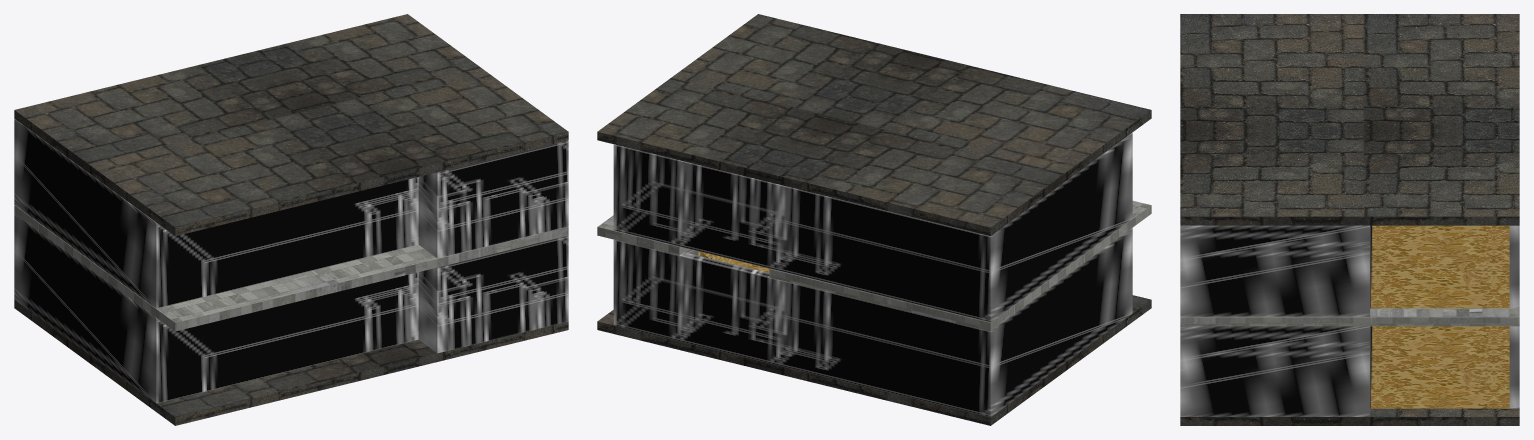
The model's file is LevelRun1.fbx.
The picture shows the model from 3 angles, left to right: view 1: azimuth 30°, elevation 25°; view 2: azimuth 150°, elevation 25°; view 3: azimuth 270°, elevation 25°; orthographic projection. The views are drawn at different scales.
Visible parts, largest first — view 1: polySurface49, polySurface35, polySurface32, polySurface3, polySurface16; view 2: polySurface49, polySurface32, polySurface35, polySurface16, polySurface3; view 3: polySurface49, polySurface35, polySurface32, polySurface3, polySurface16.
Boxes of the visible parts, x1,y1,x2,y2 form: polySurface49: [14, 14, 568, 236]; polySurface35: [14, 119, 568, 308]; polySurface32: [14, 214, 568, 403]; polySurface3: [14, 205, 568, 331]; polySurface16: [14, 300, 568, 425]; polySurface49: [597, 14, 1151, 236]; polySurface32: [613, 228, 1132, 417]; polySurface35: [613, 133, 1132, 322]; polySurface16: [597, 295, 1151, 425]; polySurface3: [597, 200, 1151, 331]; polySurface49: [1180, 14, 1519, 225]; polySurface35: [1180, 225, 1519, 316]; polySurface32: [1180, 326, 1519, 416]; polySurface3: [1180, 308, 1519, 326]; polySurface16: [1180, 408, 1519, 425].
Size of the model in its own units: 48 by 23.13 by 34.
Materials: 16 (15 with a texture image).
